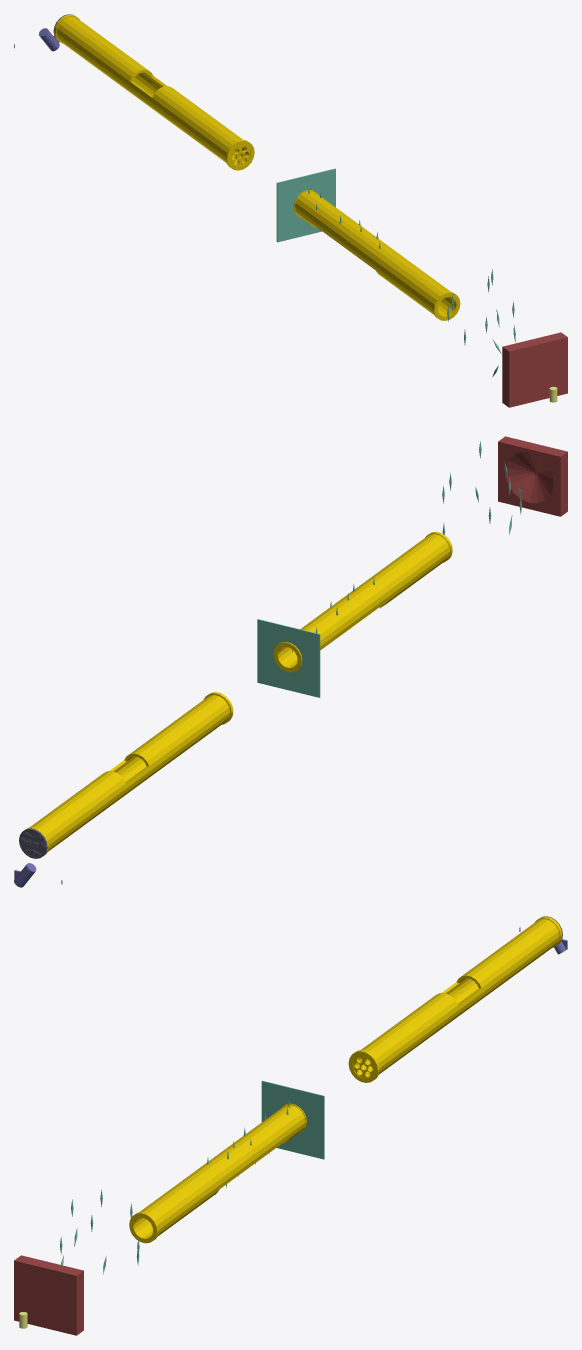
The model's file is Tutorial V2.fbx.
3 views of the same model, one above another, from view 1: azimuth 30°, elevation 25°; view 2: azimuth 150°, elevation 25°; view 3: azimuth 330°, elevation 25° (orthographic). The views are drawn at different scales.
Visible parts, largest first — view 1: Back_Wall, Tube_2_Wall, Tube_End, Tube_End_Revolver, Tube_Top_Gap_Entry; view 2: Back_Wall, Tube_2_Wall, Tube_Entry, Tube_Top_Gap_End; view 3: Back_Wall, Tube_2_Wall, Tube_End, Tube_End_Revolver, Tube_Top_Gap_Entry.
Boxes of the visible parts, left/top/right/bottom form: Back_Wall: left=502, top=332, right=567, bottom=407; Tube_2_Wall: left=276, top=168, right=335, bottom=242; Tube_End: left=426, top=287, right=460, bottom=320; Tube_End_Revolver: left=225, top=139, right=254, bottom=170; Tube_Top_Gap_Entry: left=122, top=64, right=153, bottom=93; Back_Wall: left=498, top=436, right=567, bottom=516; Tube_2_Wall: left=257, top=619, right=320, bottom=697; Tube_Entry: left=273, top=642, right=302, bottom=672; Tube_Top_Gap_End: left=124, top=748, right=157, bottom=778; Back_Wall: left=14, top=1255, right=83, bottom=1335; Tube_2_Wall: left=261, top=1080, right=324, bottom=1159; Tube_End: left=129, top=1207, right=165, bottom=1243; Tube_End_Revolver: left=348, top=1050, right=379, bottom=1082; Tube_Top_Gap_Entry: left=456, top=969, right=489, bottom=1000.
Bounding box in the file's own units: 282 × 372 × 3432.
